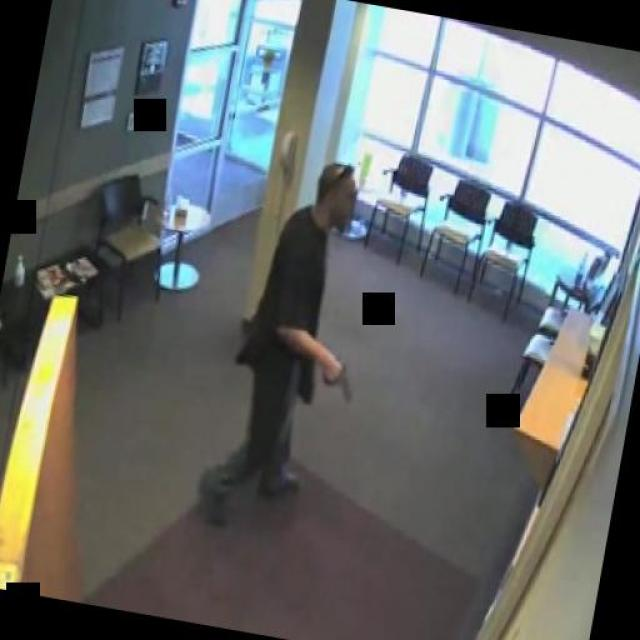gun: (317, 351, 355, 399)
